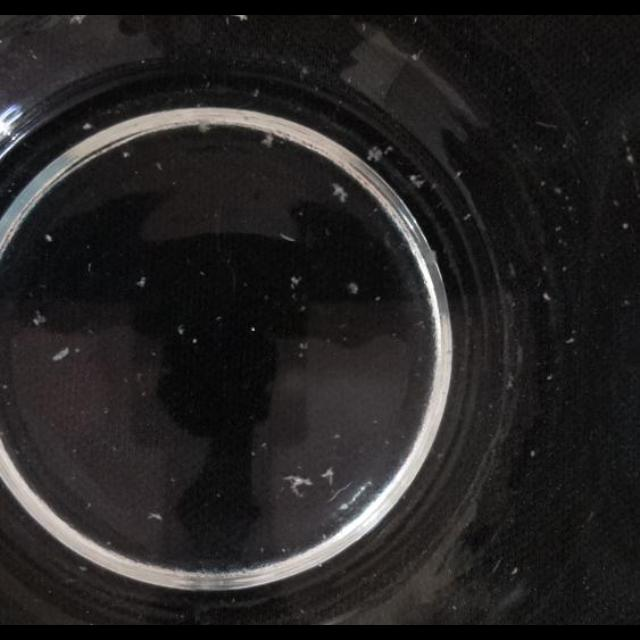Fibre: (282, 474, 314, 496), (331, 183, 349, 203), (320, 468, 336, 487), (368, 146, 384, 162), (32, 310, 48, 326), (408, 174, 426, 188), (260, 134, 274, 148), (196, 122, 212, 134), (69, 16, 85, 24)
microbeads: (346, 282, 359, 296), (290, 276, 302, 288), (508, 262, 516, 278), (542, 291, 552, 301), (137, 277, 147, 287), (462, 212, 472, 222), (136, 372, 146, 382), (300, 66, 310, 76), (410, 52, 420, 62), (178, 324, 186, 336), (299, 342, 309, 351), (81, 122, 92, 130), (338, 503, 349, 511), (154, 162, 164, 170), (565, 336, 575, 344), (44, 234, 54, 242), (252, 88, 260, 98), (510, 566, 518, 576), (333, 432, 341, 440), (122, 150, 130, 158), (554, 187, 562, 195), (102, 406, 110, 414), (260, 441, 268, 449), (623, 298, 631, 306), (612, 199, 620, 207), (622, 222, 630, 230), (455, 170, 463, 178), (78, 566, 88, 572), (554, 225, 562, 232), (530, 449, 536, 457), (191, 336, 197, 344), (374, 296, 382, 302), (86, 502, 92, 510), (546, 374, 552, 381), (1, 384, 7, 391), (561, 266, 567, 272), (250, 327, 256, 333)
